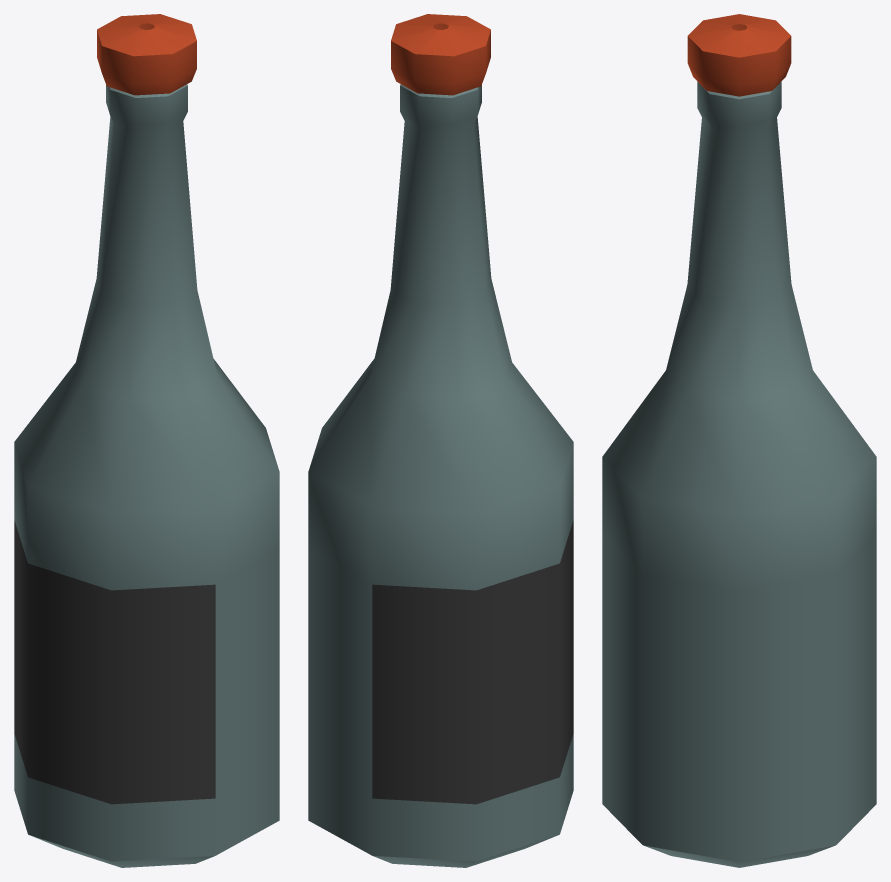
File: ME_SE_Bottle05.fbx
3 renders of one model, left to right at view 1: azimuth 30°, elevation 25°; view 2: azimuth 150°, elevation 25°; view 3: azimuth 270°, elevation 25°, orthographic.
Parts seen in each view (by area): view 1: ME_SE_Bottle05; view 2: ME_SE_Bottle05; view 3: ME_SE_Bottle05.
Boxes of the visible parts, box(x1,y1,x2,y2) form: ME_SE_Bottle05: box(14, 14, 279, 867); ME_SE_Bottle05: box(308, 14, 573, 867); ME_SE_Bottle05: box(602, 14, 876, 867).
Size of the model in its own units: 2782 by 8960 by 2782.
